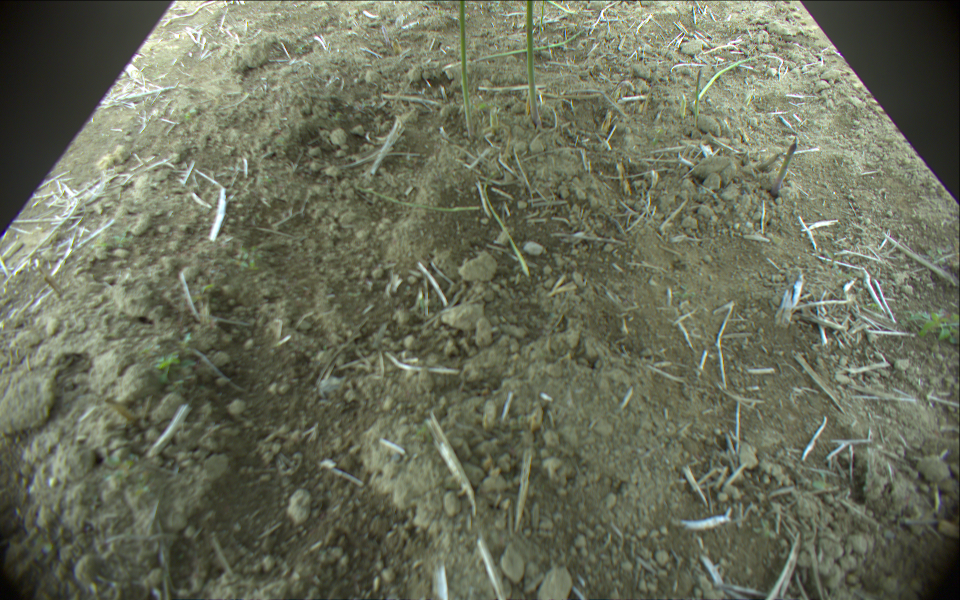aspa: (457, 27, 588, 68), (478, 181, 531, 276), (694, 55, 787, 106), (361, 184, 482, 214), (456, 1, 474, 136), (523, 1, 542, 122), (768, 137, 799, 196), (694, 68, 705, 115), (679, 93, 688, 116)
